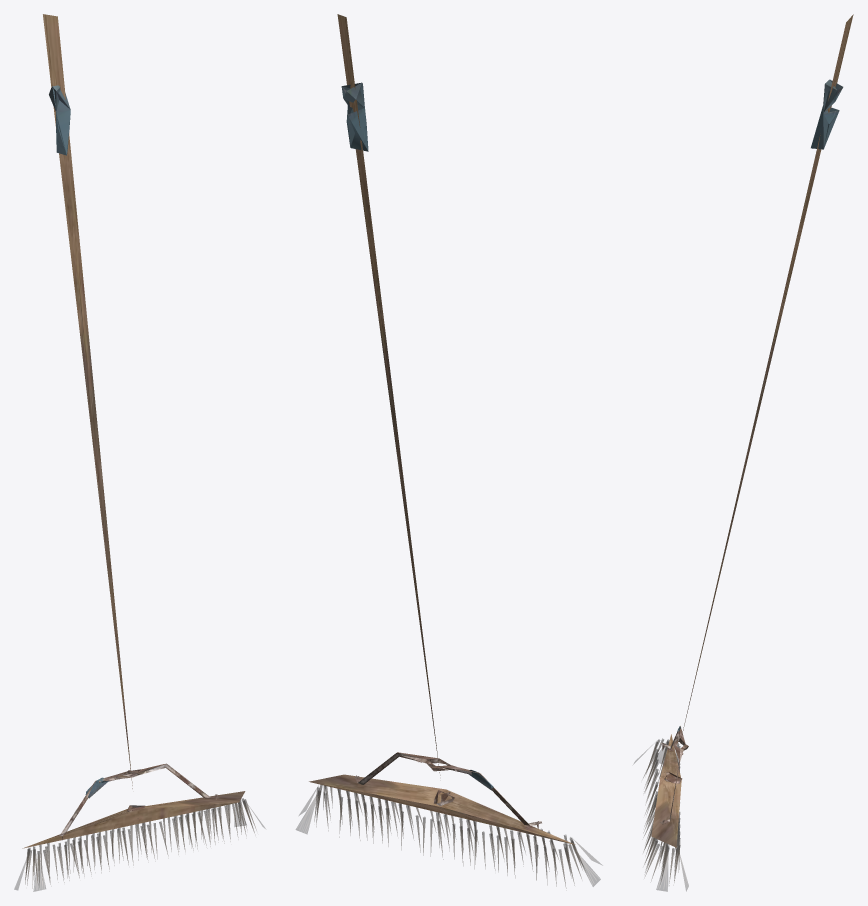
Rendered from broom.glb.
The picture shows the model from 3 angles, left to right: view 1: azimuth 30°, elevation 25°; view 2: azimuth 150°, elevation 25°; view 3: azimuth 270°, elevation 25°; orthographic projection. The views are drawn at different scales.
Parts seen in each view (by area): view 1: broom; view 2: broom; view 3: broom.
Part boxes in pixels (x1,y1,x2,y2): broom: [14, 14, 265, 891]; broom: [296, 14, 601, 888]; broom: [634, 14, 853, 891].
Bounding box in the file's own units: 0.4775 × 1.42 × 0.3493.
Materials: 2 (2 with a texture image).
